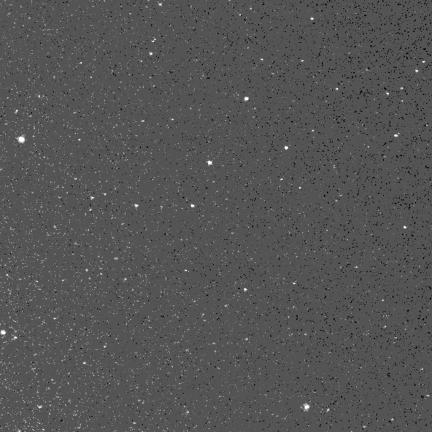blob: (18, 136, 25, 143), (0, 330, 6, 336), (244, 97, 249, 102), (191, 204, 195, 208), (404, 226, 408, 230), (244, 288, 248, 292), (208, 161, 212, 165), (311, 17, 314, 21), (135, 204, 139, 207), (394, 134, 398, 137), (285, 146, 288, 149), (416, 70, 419, 73)
